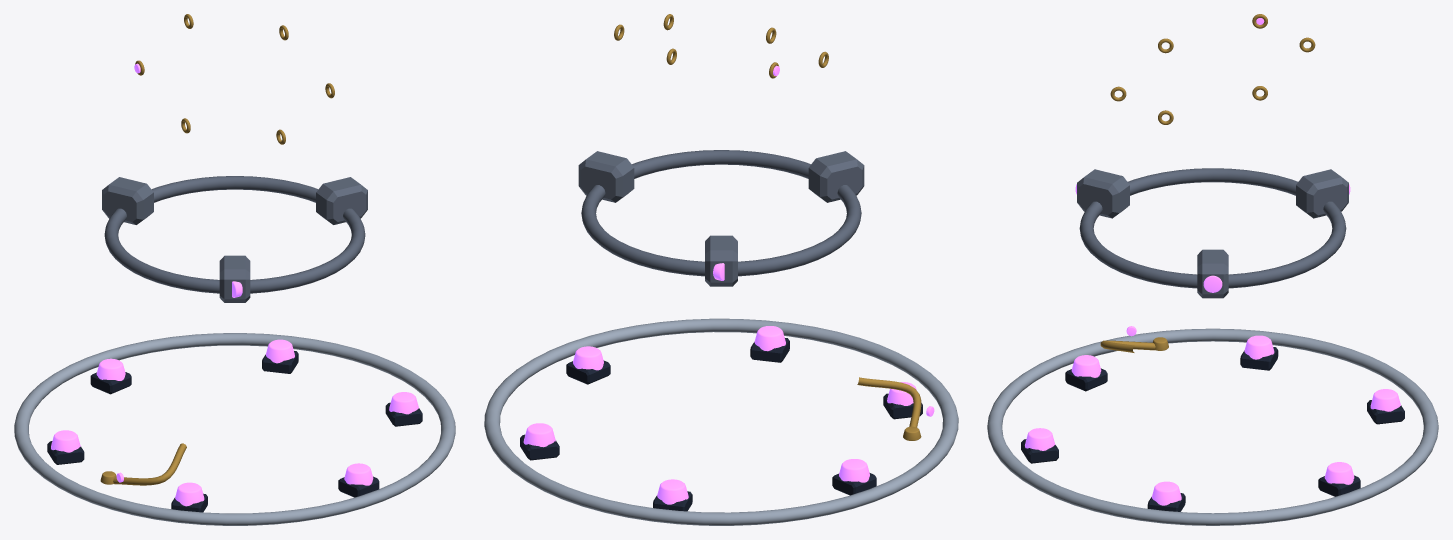
File: tower_singularity_range_s10.glb
3 views of the same model, side by side, from view 1: azimuth 30°, elevation 25°; view 2: azimuth 150°, elevation 25°; view 3: azimuth 270°, elevation 25° (orthographic). The views are drawn at different scales.
Visible parts, largest first — view 1: singularity_projector_ring, singularity_collar_ring, singularity_collar_pod0, singularity_collar_pod1, singularity_collar_pod2, singularity_projector_conduit, singularity_projector_node5, singularity_projector_node2, singularity_projector_node4, singularity_projector_node1, singularity_projector_node0, singularity_projector_shoe1 (+2 smaller); view 2: singularity_projector_ring, singularity_collar_ring, singularity_collar_pod1, singularity_collar_pod2, singularity_collar_pod0, singularity_projector_conduit, singularity_projector_node1, singularity_projector_node4, singularity_projector_node0, singularity_projector_node3, singularity_projector_node2, singularity_projector_shoe3 (+3 smaller); view 3: singularity_projector_ring, singularity_collar_ring, singularity_collar_pod0, singularity_collar_pod2, singularity_collar_pod1, singularity_projector_node0, singularity_projector_node2, singularity_projector_node3, singularity_projector_shoe5, singularity_projector_node5, singularity_projector_node4, singularity_projector_node1 (+3 smaller).
Part boxes in pixels (<box>): singularity_projector_ring: <box>14,333,455,525</box>; singularity_collar_ring: <box>104,176,365,293</box>; singularity_collar_pod0: <box>102,177,153,224</box>; singularity_collar_pod1: <box>316,177,367,224</box>; singularity_collar_pod2: <box>219,255,250,302</box>; singularity_projector_conduit: <box>113,443,186,485</box>; singularity_projector_node5: <box>175,482,204,506</box>; singularity_projector_node2: <box>265,339,294,363</box>; singularity_projector_node4: <box>344,463,373,485</box>; singularity_projector_node1: <box>96,358,125,380</box>; singularity_projector_node0: <box>51,430,80,452</box>; singularity_projector_shoe1: <box>90,372,131,394</box>; singularity_projector_ring: <box>484,318,958,525</box>; singularity_collar_ring: <box>581,150,861,276</box>; singularity_collar_pod1: <box>578,151,634,202</box>; singularity_collar_pod2: <box>808,151,864,202</box>; singularity_collar_pod0: <box>705,235,737,286</box>; singularity_projector_conduit: <box>857,377,921,427</box>; singularity_projector_node1: <box>657,479,688,504</box>; singularity_projector_node4: <box>754,326,785,351</box>; singularity_projector_node0: <box>839,459,869,482</box>; singularity_projector_node3: <box>573,346,603,370</box>; singularity_projector_node2: <box>523,423,555,447</box>; singularity_projector_shoe3: <box>566,360,610,384</box>; singularity_projector_ring: <box>987,328,1438,525</box>; singularity_collar_ring: <box>1079,168,1346,288</box>; singularity_collar_pod0: <box>1296,169,1348,218</box>; singularity_collar_pod2: <box>1077,169,1129,218</box>; singularity_collar_pod1: <box>1197,249,1228,298</box>; singularity_projector_node0: <box>1244,335,1274,359</box>; singularity_projector_node2: <box>1324,462,1354,484</box>; singularity_projector_node3: <box>1151,481,1181,505</box>; singularity_projector_shoe5: <box>1065,368,1107,391</box>; singularity_projector_node5: <box>1071,355,1101,377</box>; singularity_projector_node4: <box>1025,428,1055,450</box>; singularity_projector_node1: <box>1370,389,1400,411</box>.
Bounding box in the file's own units: 2.57 × 2.51 × 2.57.
